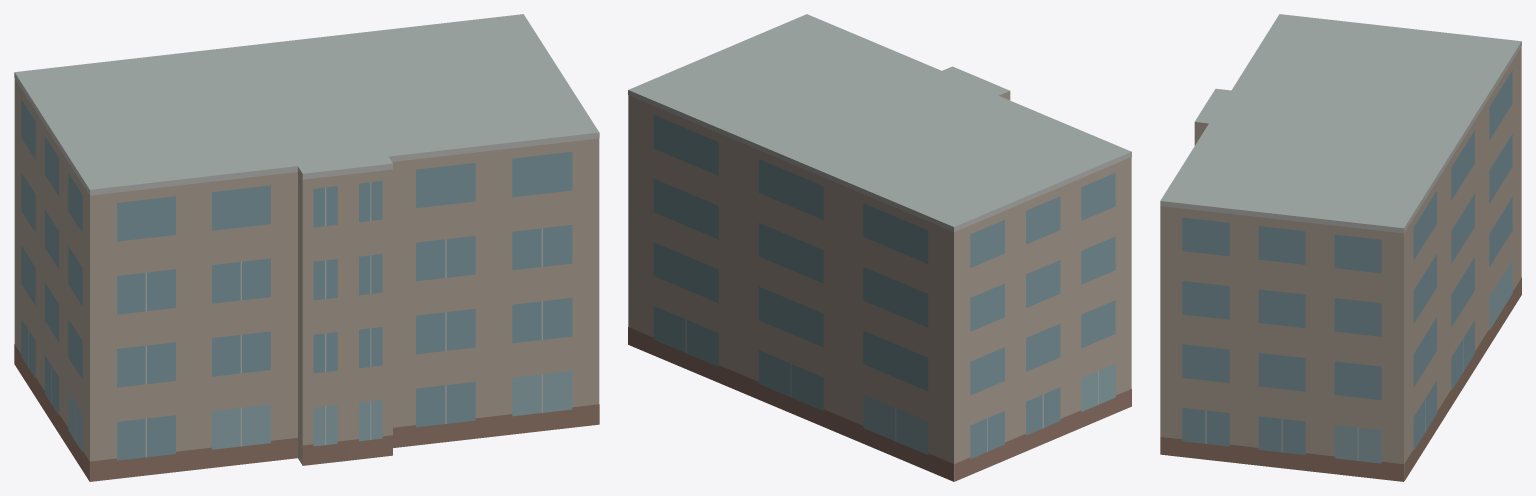
The model's file is residential-90c2bfc0-c553-4811-8f78-1e1fda0e9598.glb.
3 renders of one model, left to right at view 1: azimuth 30°, elevation 25°; view 2: azimuth 150°, elevation 25°; view 3: azimuth 270°, elevation 25°, orthographic. The views are drawn at different scales.
Visible parts, largest first — view 1: residential-90c2bfc0-c553-4811-8f78-1e1fda0e9598.tmp; view 2: residential-90c2bfc0-c553-4811-8f78-1e1fda0e9598.tmp; view 3: residential-90c2bfc0-c553-4811-8f78-1e1fda0e9598.tmp.
Part boxes in pixels (x1,y1,x2,y2): residential-90c2bfc0-c553-4811-8f78-1e1fda0e9598.tmp: (14, 14, 599, 481); residential-90c2bfc0-c553-4811-8f78-1e1fda0e9598.tmp: (628, 14, 1131, 481); residential-90c2bfc0-c553-4811-8f78-1e1fda0e9598.tmp: (1160, 14, 1521, 481).
Bounding box in the file's own units: 22.11 × 12.2 × 15.77.
